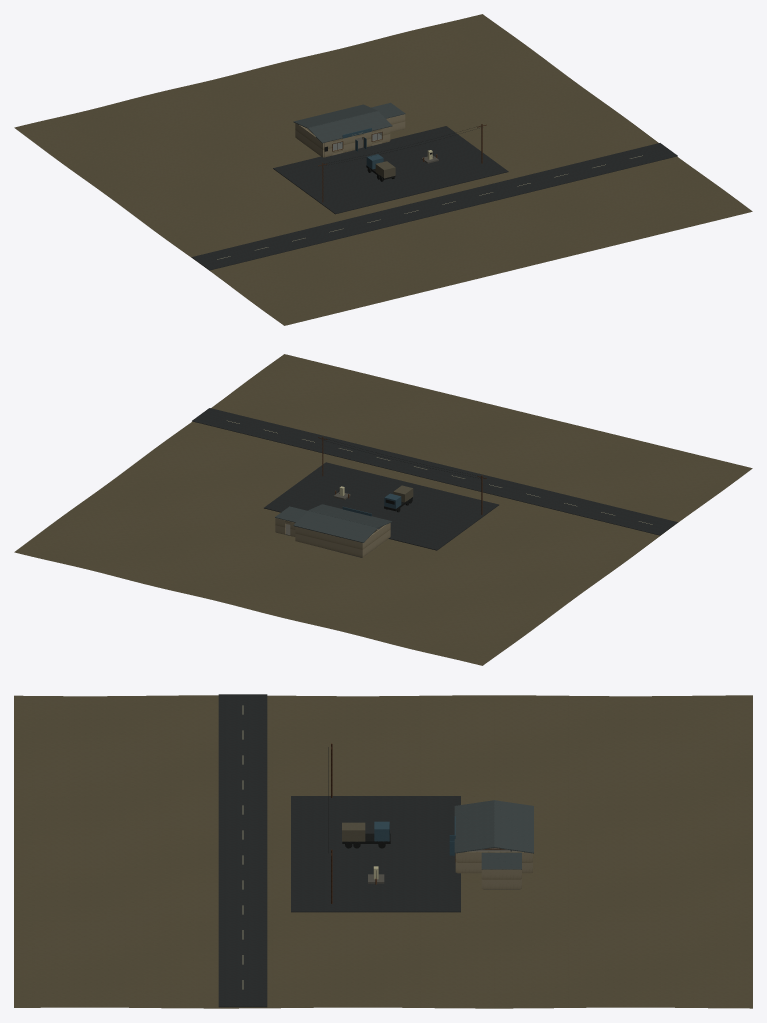
Rendered from cafe.glb.
3 views of the same model, one above another, from view 1: azimuth 30°, elevation 25°; view 2: azimuth 150°, elevation 25°; view 3: azimuth 270°, elevation 25° (orthographic). The views are drawn at different scales.
Visible parts, largest first — view 1: Forecourt.Apron, Highway, Ground.3.3, Ground.1.0, Ground.2.0, Ground.3.0, Ground.0.3, Ground.0.0, Ground.3.2, Ground.0.2, Ground.1.3, Ground.2.3 (+8 smaller); view 2: Highway, Forecourt.Apron, Ground.0.3, Ground.1.3, Ground.1.0, Ground.2.0, Ground.0.0, Ground.2.3, Ground.3.3, Ground.3.0, Ground.0.2, Ground.3.2 (+9 smaller); view 3: Forecourt.Apron, Highway, Ground.0.2, Ground.3.2, Ground.3.3, Ground.3.0, Ground.0.0, Ground.0.3, Ground.1.3, Ground.1.0, Ground.2.3, Ground.2.0 (+11 smaller).
Part boxes in pixels (<box>): Forecourt.Apron: <box>273,126,508,214</box>; Highway: <box>191,143,677,270</box>; Ground.3.3: <box>365,14,549,91</box>; Ground.1.0: <box>334,219,518,297</box>; Ground.2.0: <box>451,191,635,268</box>; Ground.3.0: <box>569,162,752,239</box>; Ground.0.3: <box>14,99,198,177</box>; Ground.0.0: <box>217,248,401,325</box>; Ground.3.2: <box>433,63,617,140</box>; Ground.0.2: <box>82,149,265,227</box>; Ground.1.3: <box>131,71,310,148</box>; Ground.2.3: <box>248,42,432,116</box>; Highway: <box>192,408,677,535</box>; Forecourt.Apron: <box>264,462,498,550</box>; Ground.0.3: <box>365,588,549,665</box>; Ground.1.3: <box>248,559,432,637</box>; Ground.1.0: <box>451,411,635,488</box>; Ground.2.0: <box>334,382,518,460</box>; Ground.0.0: <box>569,440,752,517</box>; Ground.2.3: <box>131,531,315,608</box>; Ground.3.3: <box>14,502,198,580</box>; Ground.3.0: <box>217,354,401,431</box>; Ground.0.2: <box>433,539,617,616</box>; Ground.3.2: <box>82,452,265,530</box>; Forecourt.Apron: <box>291,796,460,912</box>; Highway: <box>218,694,267,1007</box>; Ground.0.2: <box>383,695,568,773</box>; Ground.3.2: <box>383,929,568,1008</box>; Ground.3.3: <box>568,929,752,1008</box>; Ground.3.0: <box>14,929,198,1008</box>; Ground.0.0: <box>14,695,198,773</box>; Ground.0.3: <box>568,695,752,773</box>; Ground.1.3: <box>568,773,752,851</box>; Ground.1.0: <box>14,773,198,851</box>; Ground.2.3: <box>568,852,752,930</box>; Ground.2.0: <box>14,852,198,930</box>.
Bounding box in the file's own units: 100 × 8.26 × 100.
Materials: 12 (11 with a texture image).
